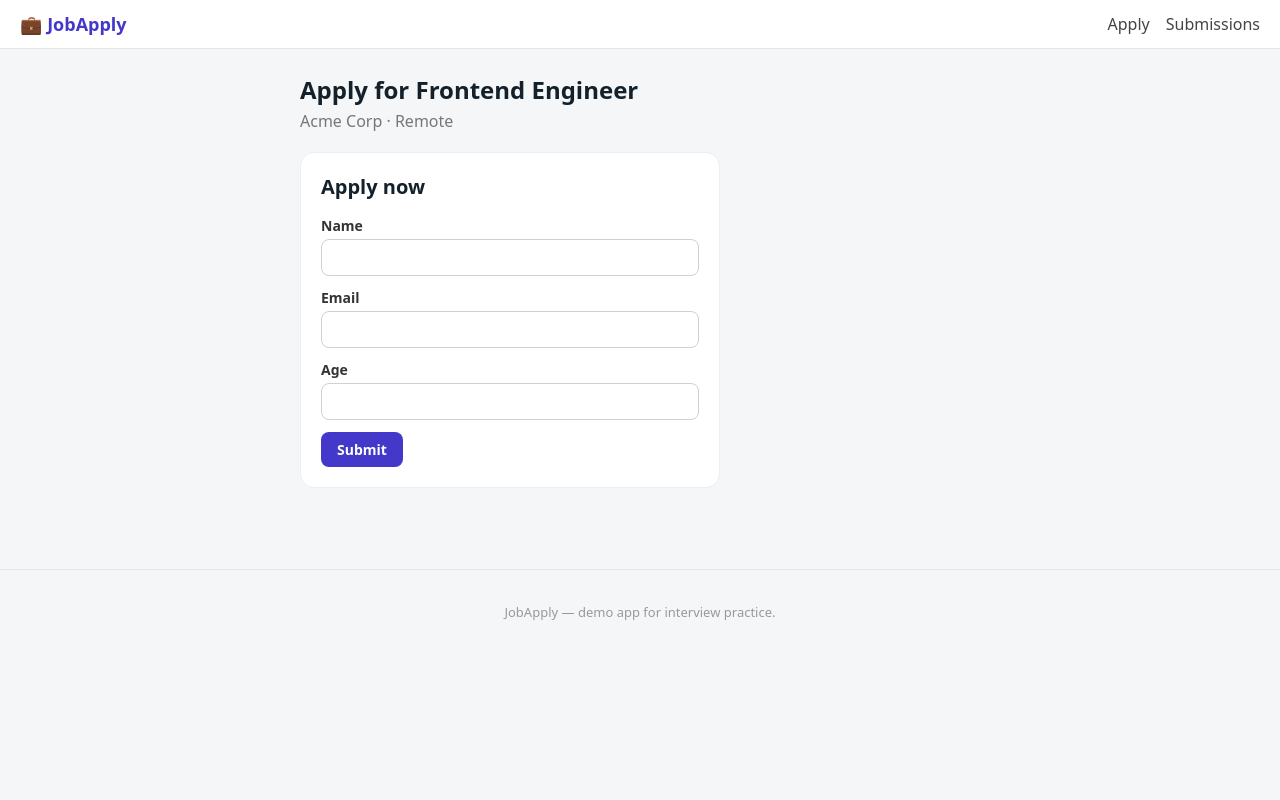
Scenario: m04 · JobApply — app renders › navigates to the Submissions route via the navbar
Step 1. Click the link with test id "nav-submissions" → {"x": 1213, "y": 24}, box [1166,13,1260,35]
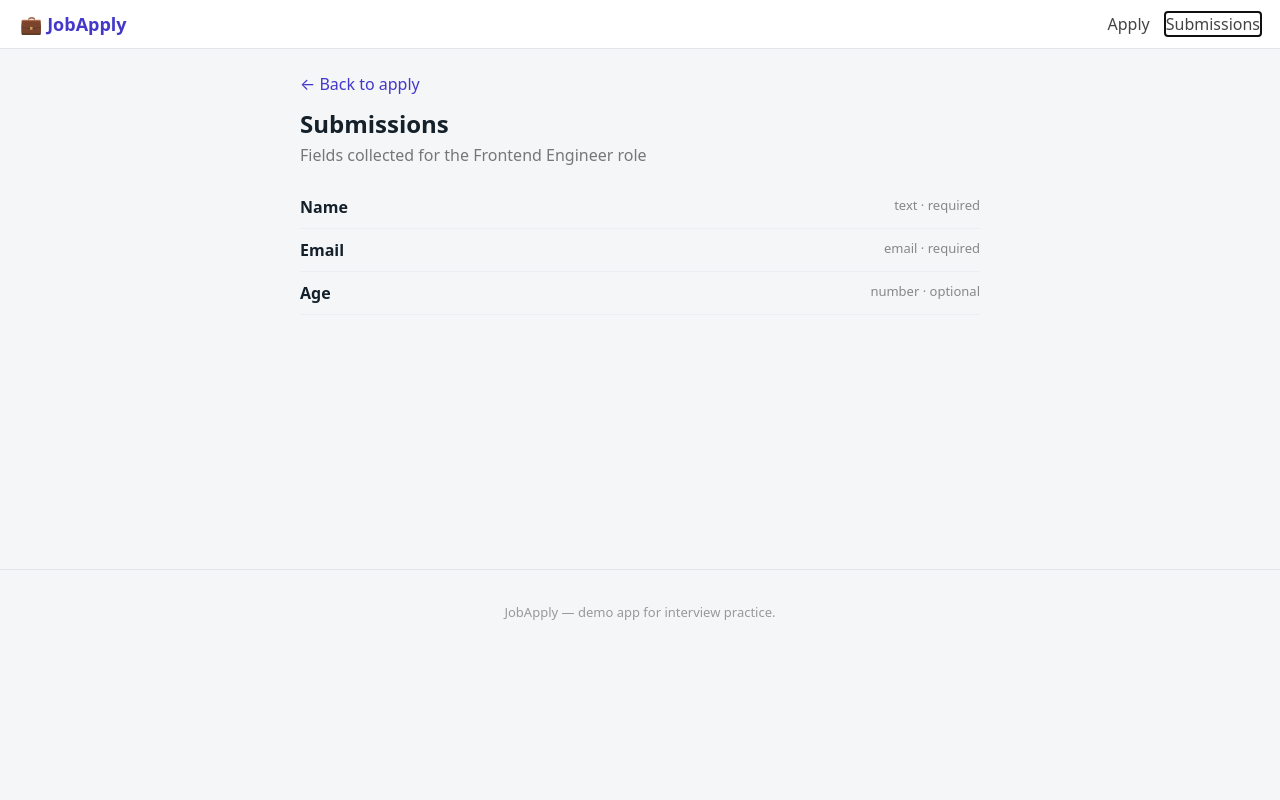
Now the element with test id "submissions-page" is shown, box [280,49,1000,339]
